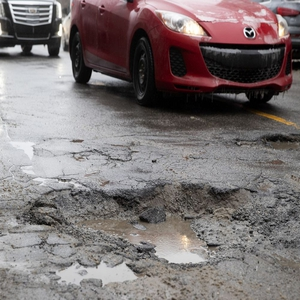pothole: (33, 179, 255, 271)
